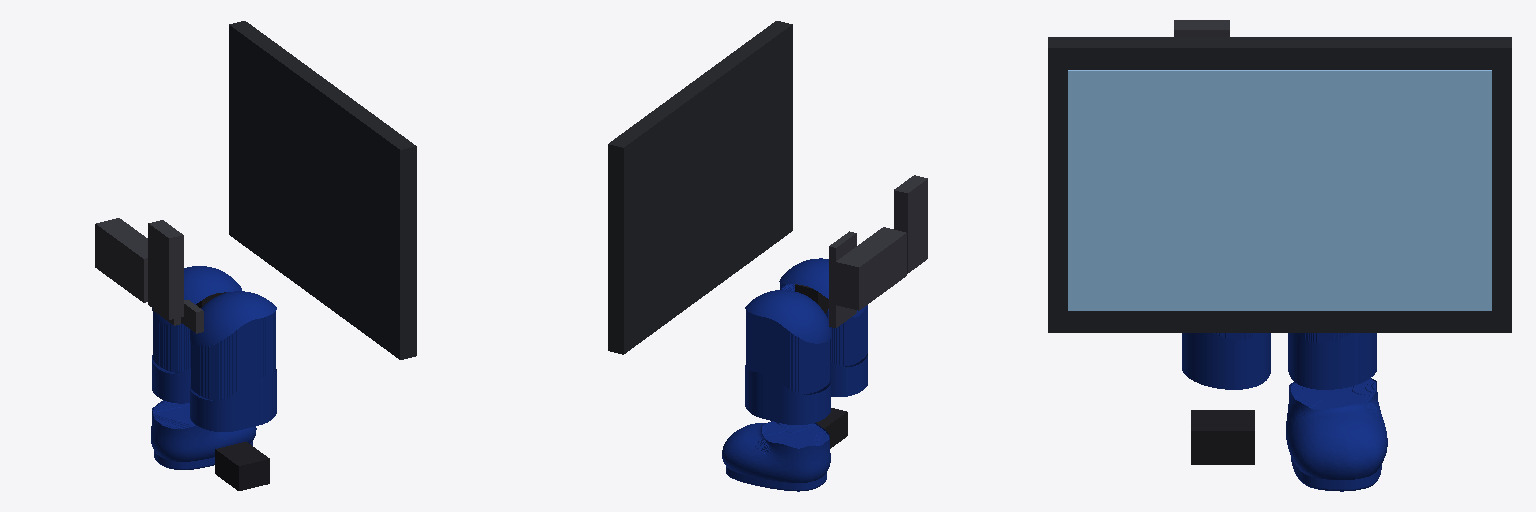
robot.urdf — haetburi:
<?xml version="1.0"?>
<!-- Haetburi biped (v21_xc330) - generated by tools/build_model.py, do not edit by hand -->
<robot name="haetburi">
  <mujoco>
    <compiler meshdir="." balanceinertia="true" discardvisual="false" strippath="false" fusestatic="false"/>
  </mujoco>
  <material name="display"><color rgba="0.18 0.19 0.21 1"/></material>
  <material name="screen"><color rgba="0.62 0.80 0.95 1"/></material>
  <material name="shell"><color rgba="0.106 0.216 0.541 1"/></material>
  <material name="motor"><color rgba="0.15 0.15 0.17 1"/></material>
  <material name="foot"><color rgba="0.25 0.25 0.28 1"/></material>
  <link name="world"/>
  <joint name="floating_base" type="floating">
    <parent link="world"/><child link="pelvis"/>
    <origin xyz="0 0 0" rpy="0 0 0"/>
  </joint>
  <link name="pelvis">
    <inertial>
      <origin xyz="-0.00757461 6.07616e-05 0.0439359" rpy="0 0 0"/>
      <mass value="0.490817"/>
      <inertia ixx="0.000750334" ixy="8.13531e-06" ixz="0.000280678" iyy="0.000862405" iyz="3.74201e-06" izz="0.000948977"/>
    </inertial>
    <visual><origin xyz="0 0 0" rpy="0 0 0"/><geometry><mesh filename="meshes/pelvis.stl"/></geometry><material name="shell"/></visual>
    <visual><origin xyz="0.010003 0.0200162 0.025" rpy="0 0 0"/><geometry><box size="0.02 0.026 0.034"/></geometry><material name="motor"/></visual>
    <visual><origin xyz="0.010497 -0.0203619 0.027" rpy="0 0 0"/><geometry><box size="0.02 0.026 0.034"/></geometry><material name="motor"/></visual>
    <visual><origin xyz="-0.055909 0.012397 0.082369" rpy="0 0 0"/><geometry><box size="0.02 0.07 0.035"/></geometry><material name="foot"/></visual>
    <visual><origin xyz="-0.058359 -0.041503 0.097069" rpy="0 0 0"/><geometry><box size="0.012 0.03 0.065"/></geometry><material name="foot"/></visual>
    <visual><origin xyz="-0.028959 0.007497 0.065219" rpy="0 0 0"/><geometry><box size="0.006 0.03 0.065"/></geometry><material name="foot"/></visual>
    <visual><origin xyz="-0.026509 -0.024353 0.045619" rpy="0 0 0"/><geometry><box size="0.006 0.022 0.017"/></geometry><material name="foot"/></visual>
    <collision><origin xyz="0.00854514 -0.00016741 0.03799" rpy="0 0 0"/><geometry><box size="0.102452 0.13605 0.04358"/></geometry></collision>
  </link>
  <link name="torso">
    <inertial>
      <origin xyz="0.0304346 9.21525e-05 0.127815" rpy="0 0 0"/>
      <mass value="2.49671"/>
      <inertia ixx="0.0486542" ixy="-0.000109285" ixz="0.00845894" iyy="0.047975" iyz="-0.000116759" izz="0.0276872"/>
    </inertial>
    <visual><origin xyz="0 0 0" rpy="0 0 0"/><geometry><mesh filename="meshes/torso.stl"/></geometry><material name="shell"/></visual>
    <visual><origin xyz="0.096141 0 0.0478113" rpy="0 0 0"/><geometry><box size="0.013524 0.247548 0.167345"/></geometry><material name="display"/></visual>
    <visual><origin xyz="0.102903 0 0.0478113" rpy="0 0 0"/><geometry><box size="0.0004 0.225792 0.14112"/></geometry><material name="screen"/></visual>
    <collision><origin xyz="-0.0446378 -2.07797e-06 0.032932" rpy="0 0 0"/><geometry><box size="0.209525 0.142073 0.139911"/></geometry></collision>
    <collision><origin xyz="0.0545076 0.110048 0.0663604" rpy="0 0 0"/><geometry><sphere radius="0.0796041"/></geometry></collision>
    <collision><origin xyz="0.0548844 -0.110217 0.0663604" rpy="0 0 0"/><geometry><sphere radius="0.0795276"/></geometry></collision>
    <collision><origin xyz="-0.00684162 0.000349887 0.134345" rpy="0 0 0"/><geometry><sphere radius="0.136537"/></geometry></collision>
    <collision><origin xyz="-0.0119218 -0.00016086 0.197217" rpy="0 0 0"/><geometry><sphere radius="0.157523"/></geometry></collision>
    <collision><origin xyz="-0.0181535 -0.000265494 0.260099" rpy="0 0 0"/><geometry><sphere radius="0.155698"/></geometry></collision>
    <collision><origin xyz="-0.0142413 0.00112154 0.322979" rpy="0 0 0"/><geometry><sphere radius="0.135386"/></geometry></collision>
    <collision><origin xyz="-0.00842703 0.00887726 0.385897" rpy="0 0 0"/><geometry><sphere radius="0.0964986"/></geometry></collision>
    <collision><origin xyz="-0.0154437 -0.00293413 0.44876" rpy="0 0 0"/><geometry><sphere radius="0.056001"/></geometry></collision>
    <collision><origin xyz="0.096141 0 0.0478113" rpy="0 0 0"/><geometry><box size="0.013524 0.247548 0.167345"/></geometry></collision>
  </link>
  <link name="leg_l">
    <inertial>
      <origin xyz="-0.00301995 0.00731668 -0.0294018" rpy="0 0 0"/>
      <mass value="0.126559"/>
      <inertia ixx="0.000133548" ixy="1.12312e-06" ixz="3.70332e-07" iyy="0.000142995" iyz="-1.98098e-07" izz="5.42901e-05"/>
    </inertial>
    <visual><origin xyz="0 0 0" rpy="0 0 0"/><geometry><mesh filename="meshes/leg_l.stl"/></geometry><material name="shell"/></visual>
    <visual><origin xyz="0.00674515 0.00506 -0.0342" rpy="0 0 0"/><geometry><box size="0.02 0.026 0.034"/></geometry><material name="motor"/></visual>
    <collision><origin xyz="-0.00281133 0.00819114 -0.00942236" rpy="0 0 0"/><geometry><box size="0.066153 0.0475198 0.0915553"/></geometry></collision>
  </link>
  <link name="ankle_l">
    <inertial>
      <origin xyz="-0.00230577 -0.00194137 -0.02664" rpy="0 0 0"/>
      <mass value="0.0201049"/>
      <inertia ixx="7.43673e-06" ixy="0" ixz="0" iyy="5.42624e-06" iyz="0" izz="3.35082e-06"/>
    </inertial>
  </link>
  <link name="foot_l">
    <inertial>
      <origin xyz="0.00151836 0.00765724 -0.00188504" rpy="0 0 0"/>
      <mass value="0.108166"/>
      <inertia ixx="3.82088e-05" ixy="-2.04857e-06" ixz="-5.5707e-07" iyy="5.63009e-05" iyz="-1.65069e-06" izz="6.65931e-05"/>
    </inertial>
    <visual><origin xyz="0 0 0" rpy="0 0 0"/><geometry><mesh filename="meshes/foot_l.stl"/></geometry><material name="shell"/></visual>
    <visual><origin xyz="0 0.0088 8.88178e-19" rpy="0 0 0"/><geometry><box size="0.026 0.034 0.02"/></geometry><material name="motor"/></visual>
    <collision><origin xyz="0 0 0" rpy="0 0 0"/><geometry><mesh filename="meshes/foot_l.stl"/></geometry></collision>
  </link>
  <link name="leg_r">
    <inertial>
      <origin xyz="-0.00345071 -0.00721786 -0.0308923" rpy="0 0 0"/>
      <mass value="0.127526"/>
      <inertia ixx="0.000140202" ixy="-1.0612e-06" ixz="5.87478e-07" iyy="0.000149769" iyz="1.25559e-07" izz="5.51064e-05"/>
    </inertial>
    <visual><origin xyz="0 0 0" rpy="0 0 0"/><geometry><mesh filename="meshes/leg_r.stl"/></geometry><material name="shell"/></visual>
    <visual><origin xyz="0.00623131 -0.00506 -0.0362" rpy="0 0 0"/><geometry><box size="0.02 0.026 0.034"/></geometry><material name="motor"/></visual>
    <collision><origin xyz="-0.0033103 -0.0081804 -0.0101773" rpy="0 0 0"/><geometry><box size="0.0661232 0.0475843 0.0940453"/></geometry></collision>
  </link>
  <link name="ankle_r">
    <inertial>
      <origin xyz="-0.00247529 0.0018634 -0.02664" rpy="0 0 0"/>
      <mass value="0.0201049"/>
      <inertia ixx="7.43673e-06" ixy="0" ixz="0" iyy="5.42624e-06" iyz="0" izz="3.35082e-06"/>
    </inertial>
  </link>
  <link name="foot_r">
    <inertial>
      <origin xyz="0.00167186 -0.00757097 -0.00193996" rpy="0 0 0"/>
      <mass value="0.107887"/>
      <inertia ixx="3.79326e-05" ixy="2.17018e-06" ixz="-4.94496e-07" iyy="5.60583e-05" iyz="1.63832e-06" izz="6.63659e-05"/>
    </inertial>
    <visual><origin xyz="0 0 0" rpy="0 0 0"/><geometry><mesh filename="meshes/foot_r.stl"/></geometry><material name="shell"/></visual>
    <visual><origin xyz="0 -0.0088 8.88178e-19" rpy="0 0 0"/><geometry><box size="0.026 0.034 0.02"/></geometry><material name="motor"/></visual>
    <collision><origin xyz="0 0 0" rpy="0 0 0"/><geometry><mesh filename="meshes/foot_r.stl"/></geometry></collision>
  </link>
  <joint name="waist_fixed" type="fixed">
    <parent link="pelvis"/><child link="torso"/>
    <origin xyz="0 0 0.05978" rpy="0 0 0"/>
  </joint>
  <joint name="hip_pitch_l" type="revolute">
    <parent link="pelvis"/><child link="leg_l"/>
    <origin xyz="0.010003 0.0200162 0.0162" rpy="0 0 0"/>
    <axis xyz="0 1 0"/>
    <limit lower="-0.506145" upper="0.436332" effort="1.0" velocity="7.43"/>
    <dynamics damping="0.07142857142857144" friction="0.028571428571428574"/>
  </joint>
  <joint name="hip_pitch_r" type="revolute">
    <parent link="pelvis"/><child link="leg_r"/>
    <origin xyz="0.010497 -0.0203619 0.0182" rpy="0 0 0"/>
    <axis xyz="0 1 0"/>
    <limit lower="-0.506145" upper="0.436332" effort="1.0" velocity="7.43"/>
    <dynamics damping="0.07142857142857144" friction="0.028571428571428574"/>
  </joint>
  <joint name="ankle_pitch_l" type="revolute">
    <parent link="leg_l"/><child link="ankle_l"/>
    <origin xyz="0.00674515 0.00506 -0.043" rpy="0 0 0"/>
    <axis xyz="0 1 0"/>
    <limit lower="-0.261799" upper="0.261799" effort="1.0" velocity="7.43"/>
    <dynamics damping="0.07142857142857144" friction="0.028571428571428574"/>
  </joint>
  <joint name="ankle_pitch_r" type="revolute">
    <parent link="leg_r"/><child link="ankle_r"/>
    <origin xyz="0.00623131 -0.00506 -0.045" rpy="0 0 0"/>
    <axis xyz="0 1 0"/>
    <limit lower="-0.261799" upper="0.261799" effort="1.0" velocity="7.43"/>
    <dynamics damping="0.07142857142857144" friction="0.028571428571428574"/>
  </joint>
  <joint name="ankle_roll_l" type="revolute">
    <parent link="ankle_l"/><child link="foot_l"/>
    <origin xyz="-0.00461153 -0.00388274 -0.05328" rpy="0 0 0"/>
    <axis xyz="1 0 0"/>
    <limit lower="-0.261799" upper="0.261799" effort="1.0" velocity="7.43"/>
    <dynamics damping="0.07142857142857144" friction="0.028571428571428574"/>
  </joint>
  <joint name="ankle_roll_r" type="revolute">
    <parent link="ankle_r"/><child link="foot_r"/>
    <origin xyz="-0.00495057 0.00372681 -0.05328" rpy="0 0 0"/>
    <axis xyz="1 0 0"/>
    <limit lower="-0.261799" upper="0.261799" effort="1.0" velocity="7.43"/>
    <dynamics damping="0.07142857142857144" friction="0.028571428571428574"/>
  </joint>
</robot>

--- Render facts (derived) ---
The picture shows the robot from 3 angles, left to right: view 1: azimuth 30°, elevation 25°; view 2: azimuth 150°, elevation 25°; view 3: azimuth 270°, elevation 25°; orthographic projection.
Robot: haetburi — 9 links, 8 joints (6 revolute, 1 fixed, 1 floating); root link world; default pose: all joints at 0.
Visible links, largest first — view 1: torso, leg_r, pelvis, leg_l, foot_l, foot_r; view 2: torso, leg_l, pelvis, foot_l, leg_r, foot_r; view 3: torso, foot_l, leg_l, leg_r, foot_r, pelvis.
Link boxes in pixels (x1,y1,x2,y2): torso: (229,21,416,359); leg_r: (190,291,276,431); pelvis: (95,218,225,333); leg_l: (152,266,241,403); foot_l: (151,400,256,469); foot_r: (215,442,269,490); torso: (608,21,792,354); leg_l: (745,290,830,424); pelvis: (795,175,927,327); foot_l: (722,421,830,491); leg_r: (779,258,867,396); foot_r: (816,408,847,448); torso: (1048,37,1511,332); foot_l: (1286,378,1387,491); leg_l: (1288,333,1376,389); leg_r: (1182,333,1270,389); foot_r: (1191,410,1254,464); pelvis: (1174,20,1229,36).
Size in the robot's own frame: 0.169 by 0.2475 by 0.2853 metres.
Meshes: 6 distinct files referenced, 3 mesh visuals loaded (3 binary STL); not drawn: 3 (reference not matched to a file when rendering).
